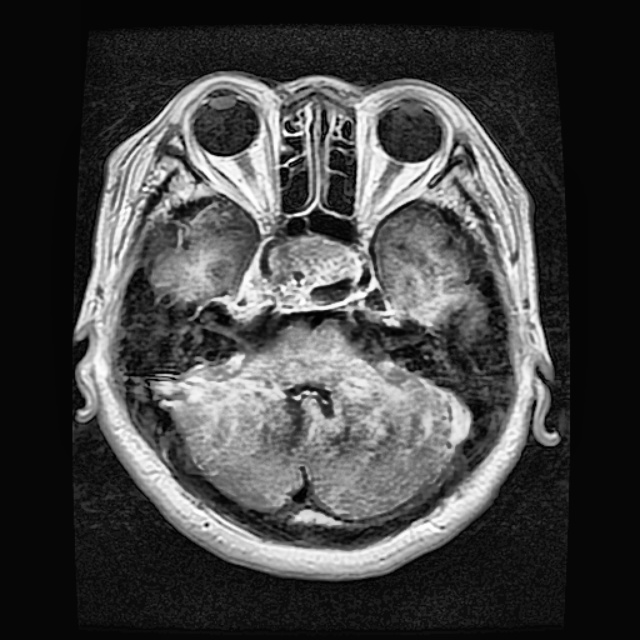Pituitary: (249, 238, 357, 308)
